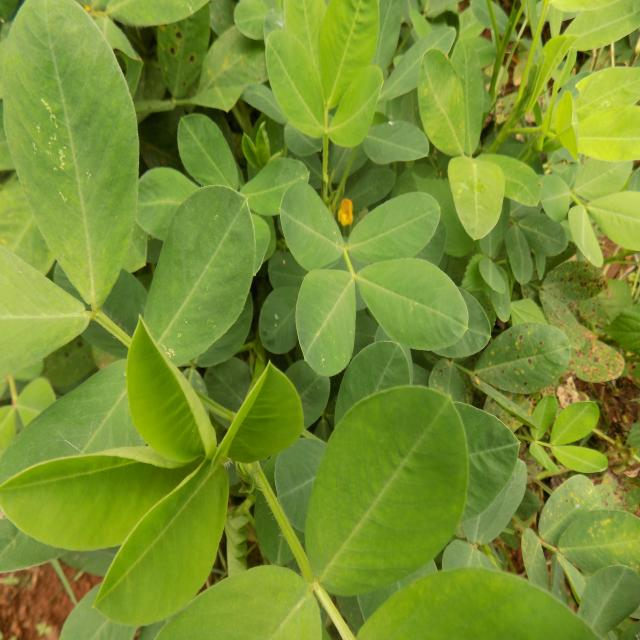Ground nut_healthy: (295, 380, 463, 589), (144, 188, 258, 358), (351, 247, 463, 361)
